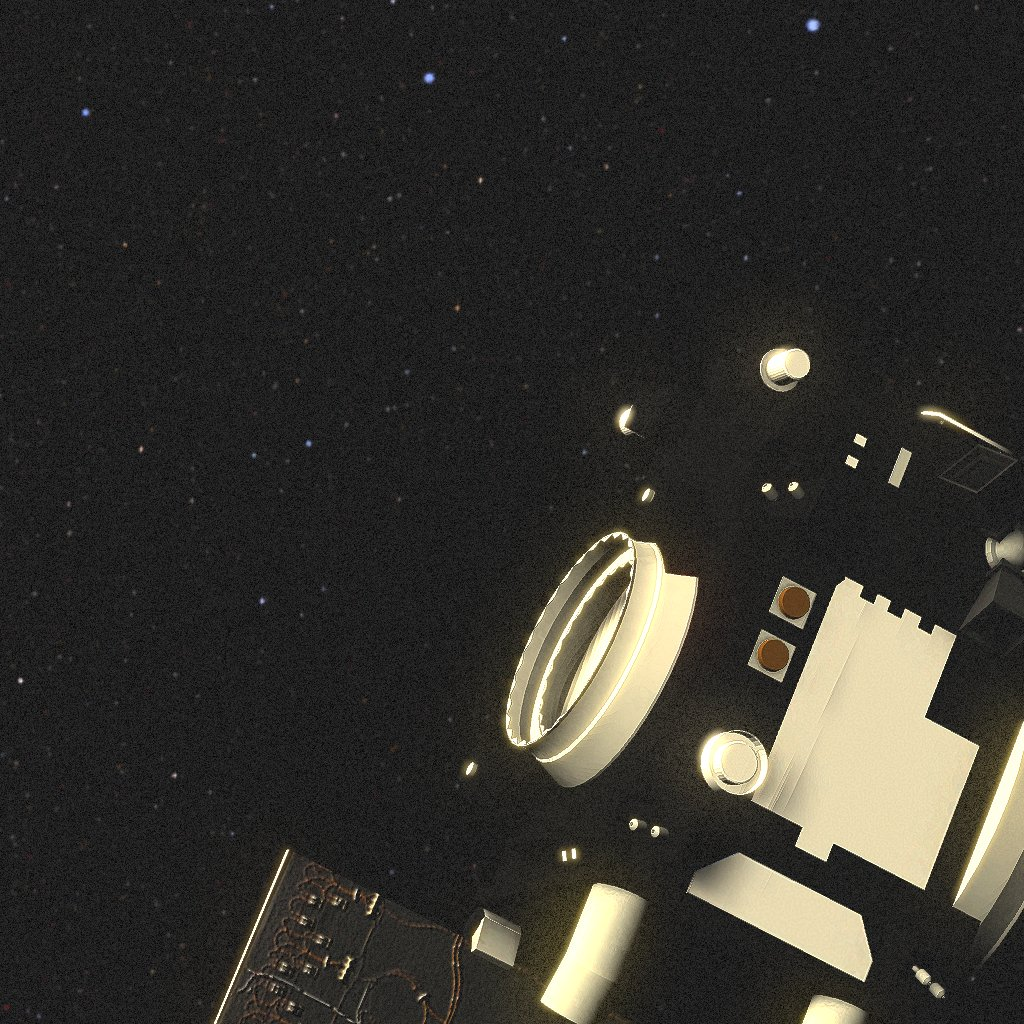proba_3_csc: (200, 389, 1004, 1014)
